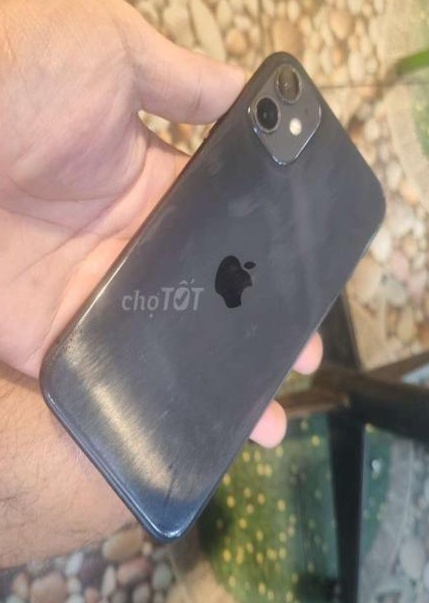scratch: (272, 150, 299, 168), (245, 96, 255, 117), (250, 122, 260, 135)
